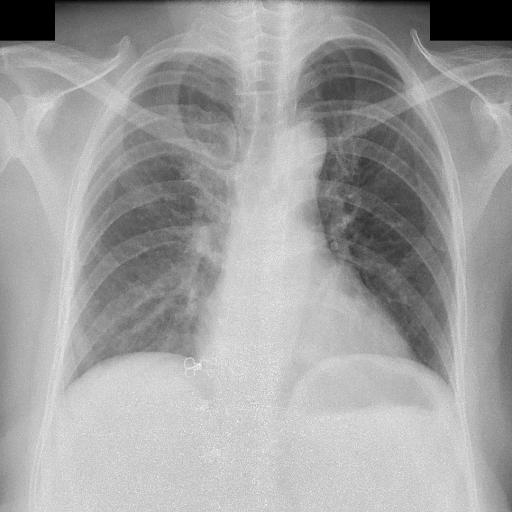Aortic enlargement: (268, 94, 308, 148)
Cardiomegaly: (81, 272, 306, 348)
